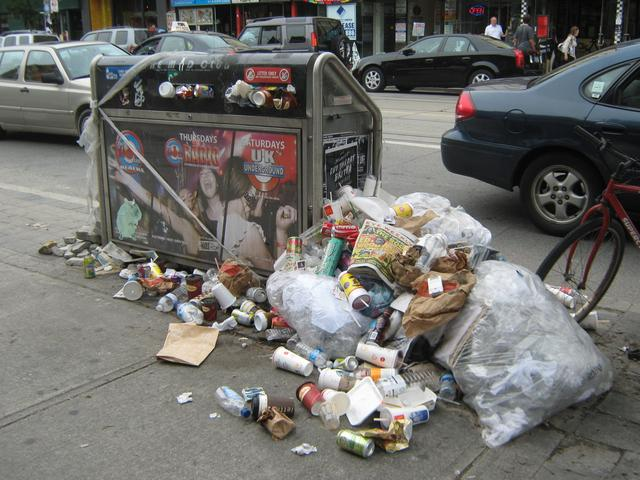garbage: (332, 197, 448, 406), (164, 270, 373, 336)
